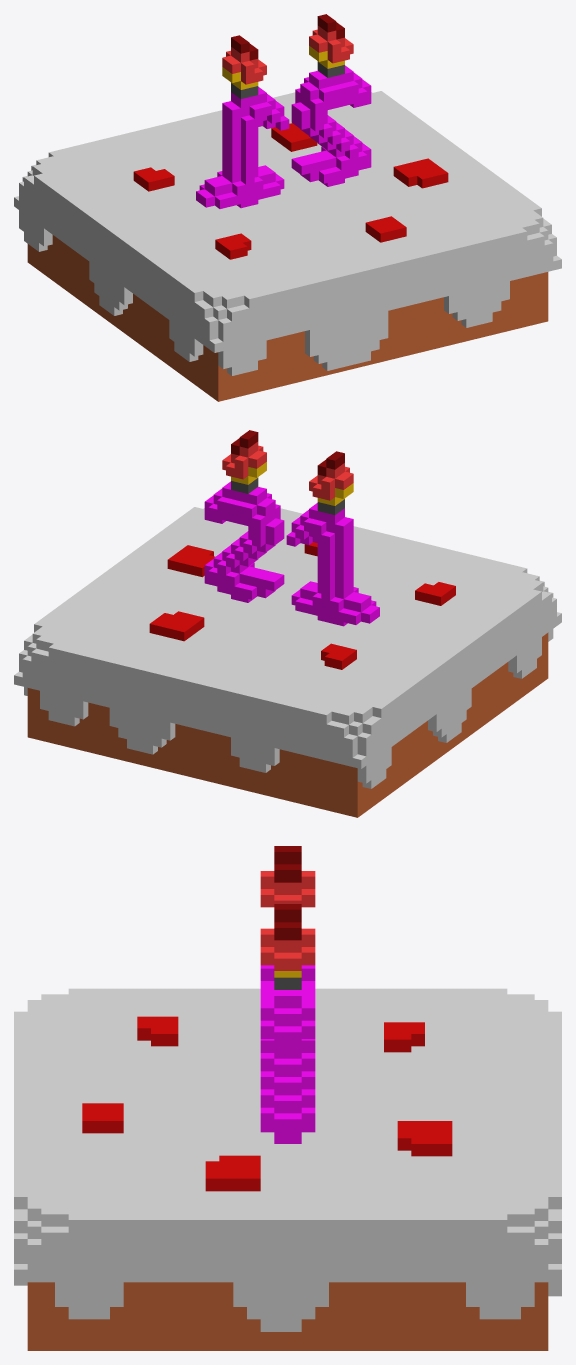
3 renders of one model, top to bottom at view 1: azimuth 30°, elevation 25°; view 2: azimuth 150°, elevation 25°; view 3: azimuth 270°, elevation 25°, orthographic. The views are drawn at different scales.
Parts seen in each view (by area): view 1: _0; view 2: _0; view 3: _0.
Part boxes in pixels (bbox=[...]): _0: bbox=[14, 14, 561, 401]; _0: bbox=[14, 430, 561, 817]; _0: bbox=[14, 846, 561, 1350].
Bounding box in the file's own units: 0.06 × 0.0435 × 0.06.
